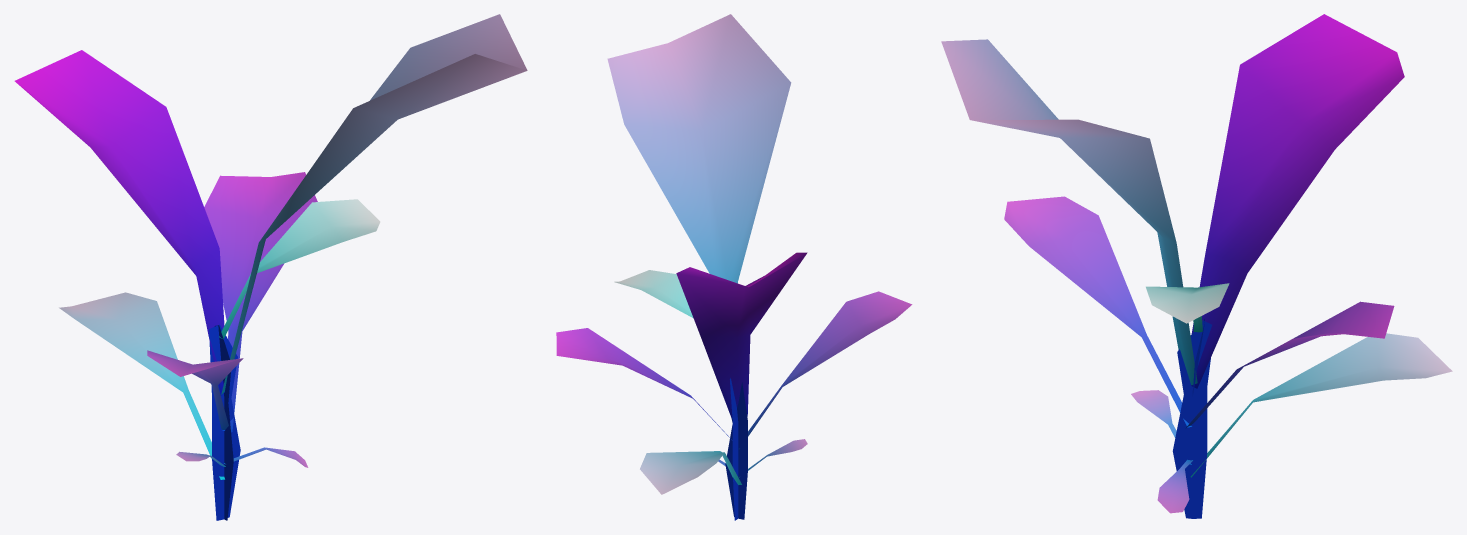
File: Curbside_Weeds_ujzjfexja_Mid_ujzjfexja_VarG_LOD0.fbx
3 views of the same model, side by side, from view 1: azimuth 30°, elevation 25°; view 2: azimuth 150°, elevation 25°; view 3: azimuth 270°, elevation 25° (orthographic). The views are drawn at different scales.
Visible parts, largest first — view 1: _pogj_VarG_LOD1; view 2: _pogj_VarG_LOD1; view 3: _pogj_VarG_LOD1.
Part boxes in pixels (x1,y1,x2,y2): _pogj_VarG_LOD1: (14, 14, 527, 520); _pogj_VarG_LOD1: (556, 14, 912, 520); _pogj_VarG_LOD1: (941, 14, 1452, 518).
Bounding box in the file's own units: 5.75 × 7.99 × 6.81.
